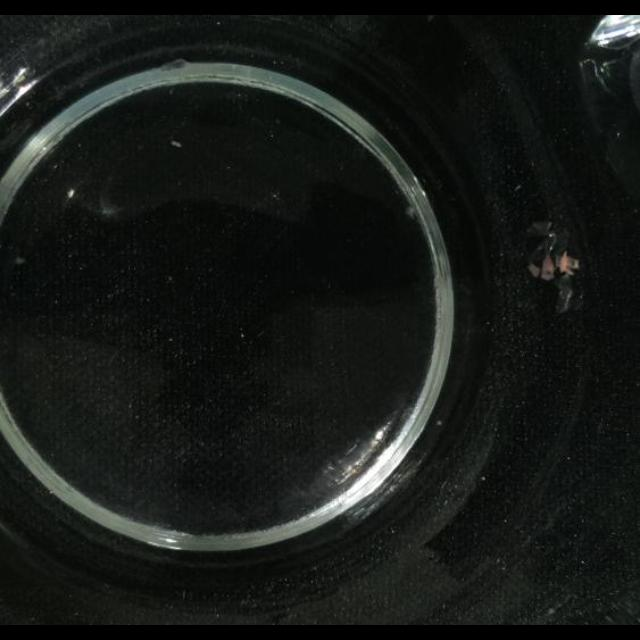Fragment: (526, 214, 590, 320)
microbeads: (170, 140, 182, 148)
